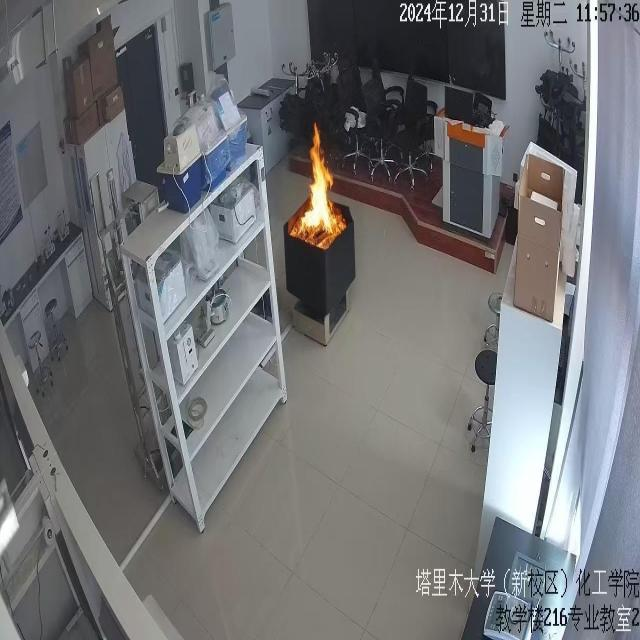fire: (282, 125, 356, 289)
